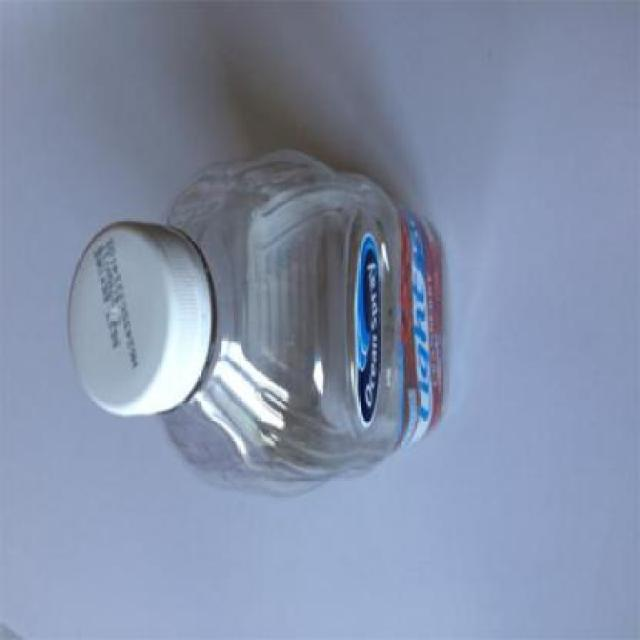Plastic: (72, 147, 445, 498)
